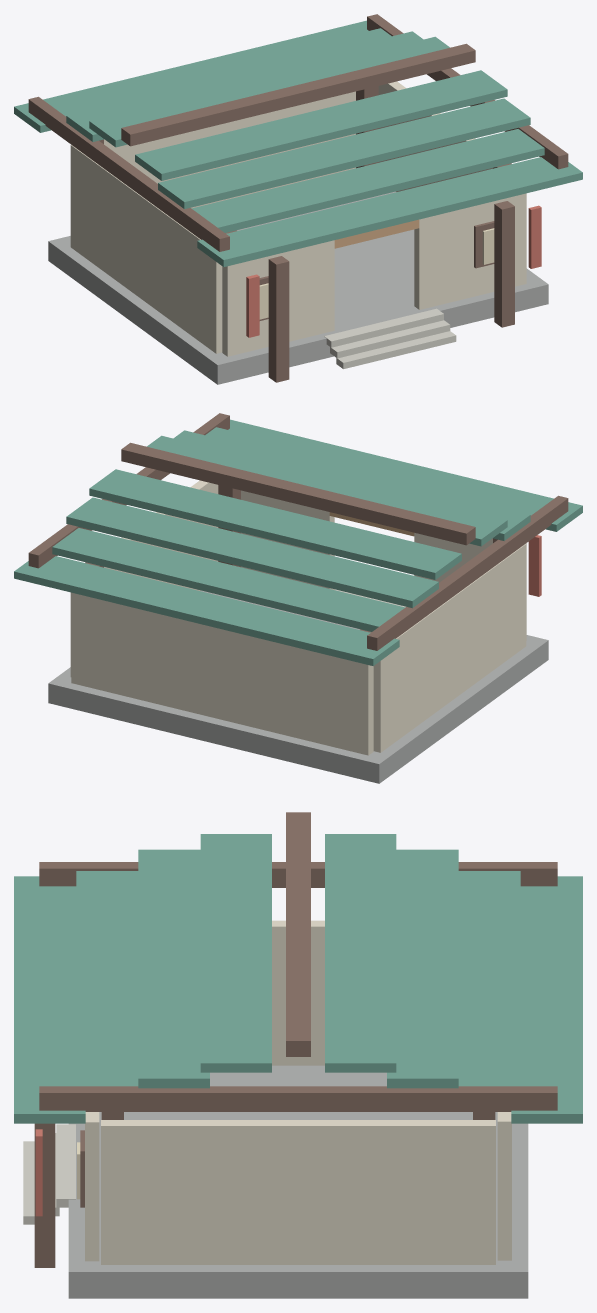
File: sect_hall_8m.glb
3 views of the same model, one above another, from view 1: azimuth 30°, elevation 25°; view 2: azimuth 150°, elevation 25°; view 3: azimuth 270°, elevation 25° (orthographic). The views are drawn at different scales.
Visible parts, largest first — view 1: roof_jade, plaster, wood_dark, stone, stone_light, cloth, paper, wood_light; view 2: roof_jade, plaster, stone, wood_dark, cloth; view 3: roof_jade, plaster, wood_dark, stone, stone_light, cloth.
Part boxes in pixels (x1,y1,x2,y2): roof_jade: [14, 20, 582, 266]; plaster: [70, 81, 526, 356]; wood_dark: [28, 14, 568, 382]; stone: [48, 191, 548, 384]; stone_light: [324, 308, 456, 369]; cloth: [246, 205, 541, 337]; paper: [259, 228, 494, 319]; wood_light: [334, 219, 419, 248]; roof_jade: [14, 419, 582, 665]; plaster: [70, 480, 526, 755]; stone: [48, 590, 548, 783]; wood_dark: [28, 413, 568, 650]; cloth: [528, 535, 541, 596]; roof_jade: [14, 834, 582, 1123]; plaster: [85, 920, 511, 1264]; wood_dark: [34, 812, 557, 1267]; stone: [68, 1065, 528, 1298]; stone_light: [23, 1124, 75, 1224]; cloth: [35, 1129, 42, 1216].
Bounding box in the file's own units: 9.55 × 4.91 × 9.65.
